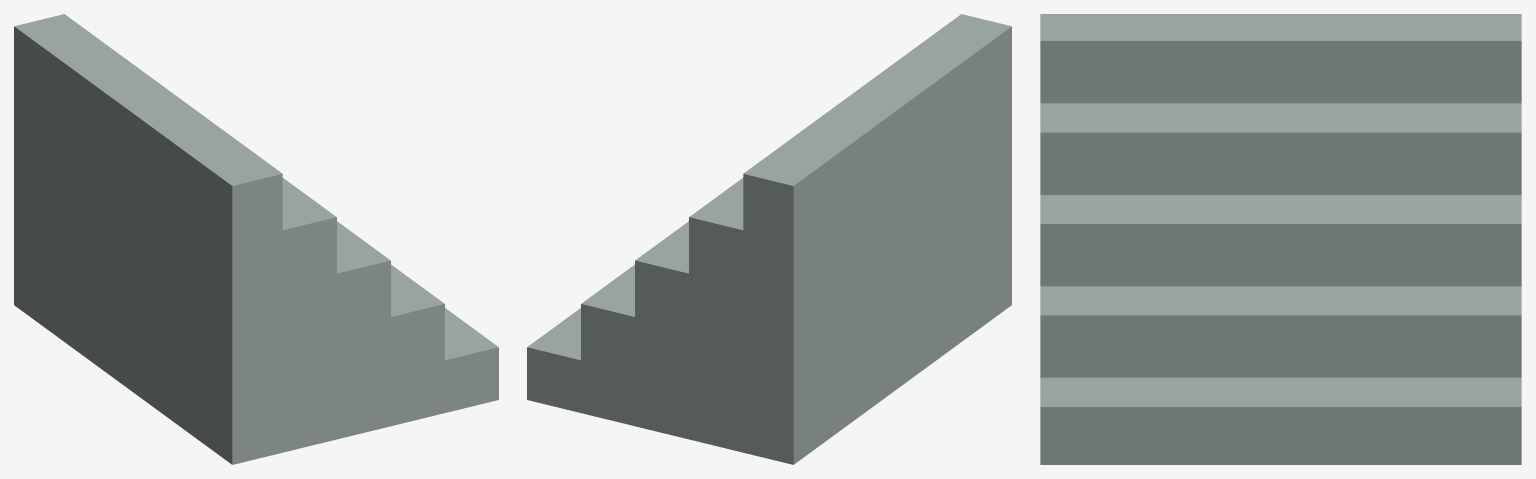
File: Stairs.fbx
3 views of the same model, side by side, from view 1: azimuth 30°, elevation 25°; view 2: azimuth 150°, elevation 25°; view 3: azimuth 270°, elevation 25° (orthographic). The views are drawn at different scales.
Parts seen in each view (by area): view 1: Cube; view 2: Cube; view 3: Cube.
Boxes of the visible parts, left/top/right/bottom form: Cube: left=14, top=14, right=498, bottom=464; Cube: left=527, top=14, right=1011, bottom=464; Cube: left=1040, top=14, right=1521, bottom=464.
Bounding box in the file's own units: 200 × 200 × 284.
